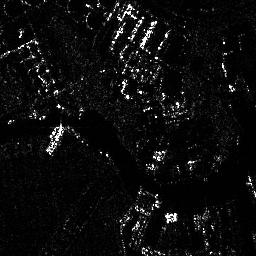ship: (43, 125, 66, 155)
